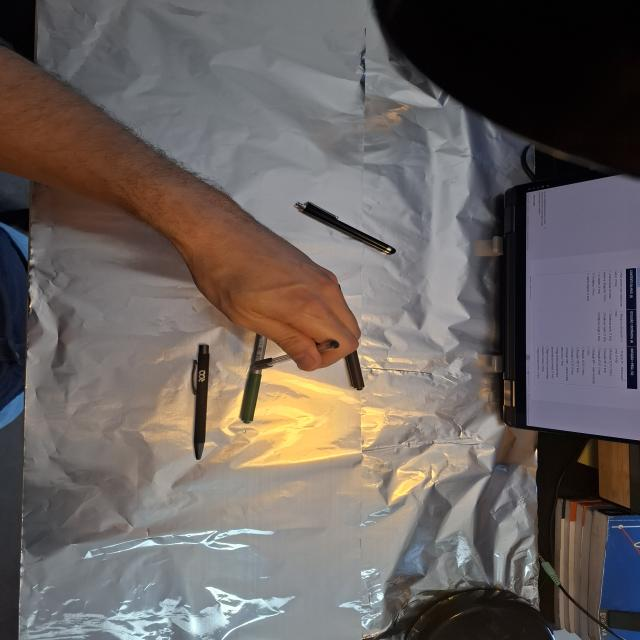glove_off: (174, 194, 364, 374)
